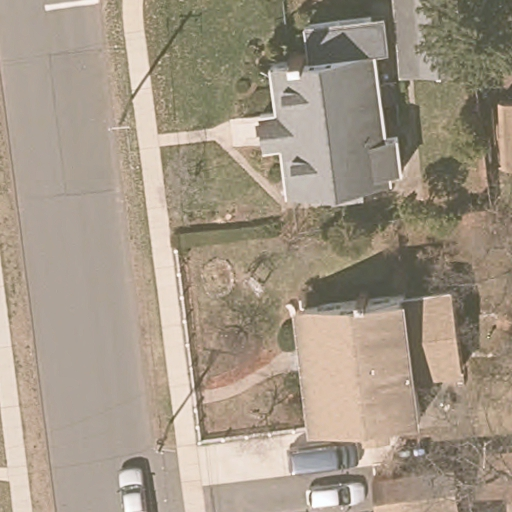DT: (106, 94, 135, 133), (154, 418, 178, 456)
